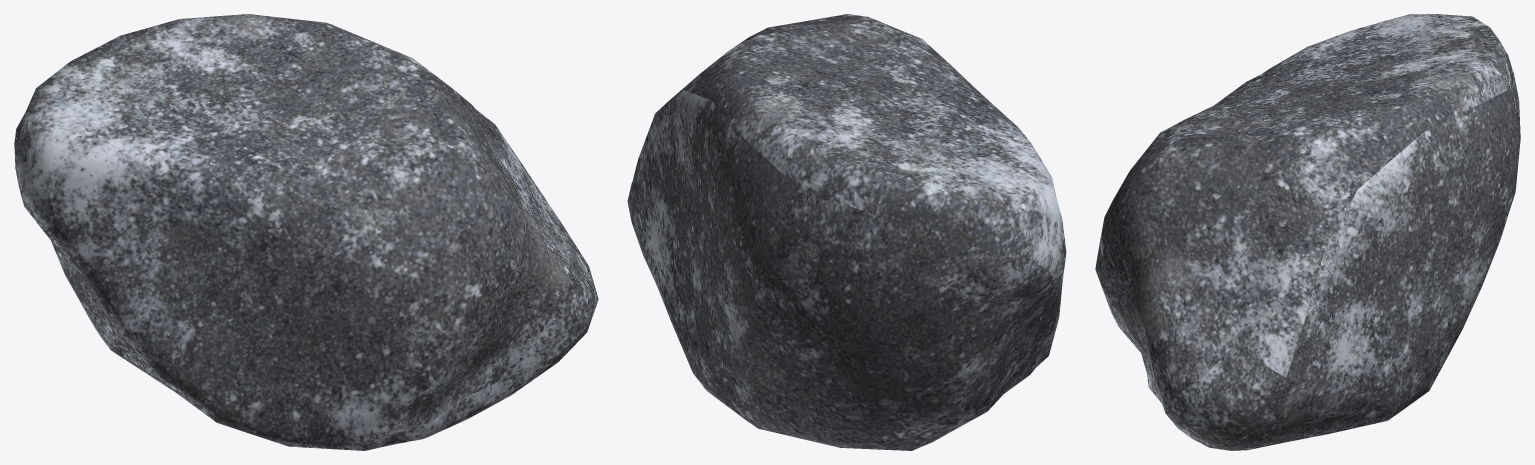
File: Arctic_Rock1_SM.fbx
3 renders of one model, left to right at view 1: azimuth 30°, elevation 25°; view 2: azimuth 150°, elevation 25°; view 3: azimuth 270°, elevation 25°, orthographic. The views are drawn at different scales.
Parts seen in each view (by area): view 1: Arctic_Rock1_SM_LOD0; view 2: Arctic_Rock1_SM_LOD0; view 3: Arctic_Rock1_SM_LOD0.
Boxes of the visible parts, x1,y1,x2,y2 form: Arctic_Rock1_SM_LOD0: (14, 14, 598, 450); Arctic_Rock1_SM_LOD0: (627, 14, 1066, 450); Arctic_Rock1_SM_LOD0: (1095, 14, 1520, 450).
Size of what is drawn, in the model's own units: 172 by 113 by 140.
